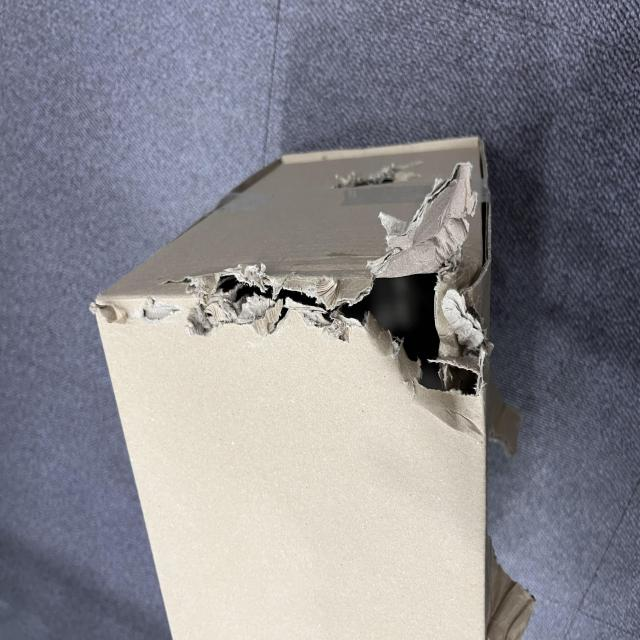damaged: (172, 288, 282, 640)
